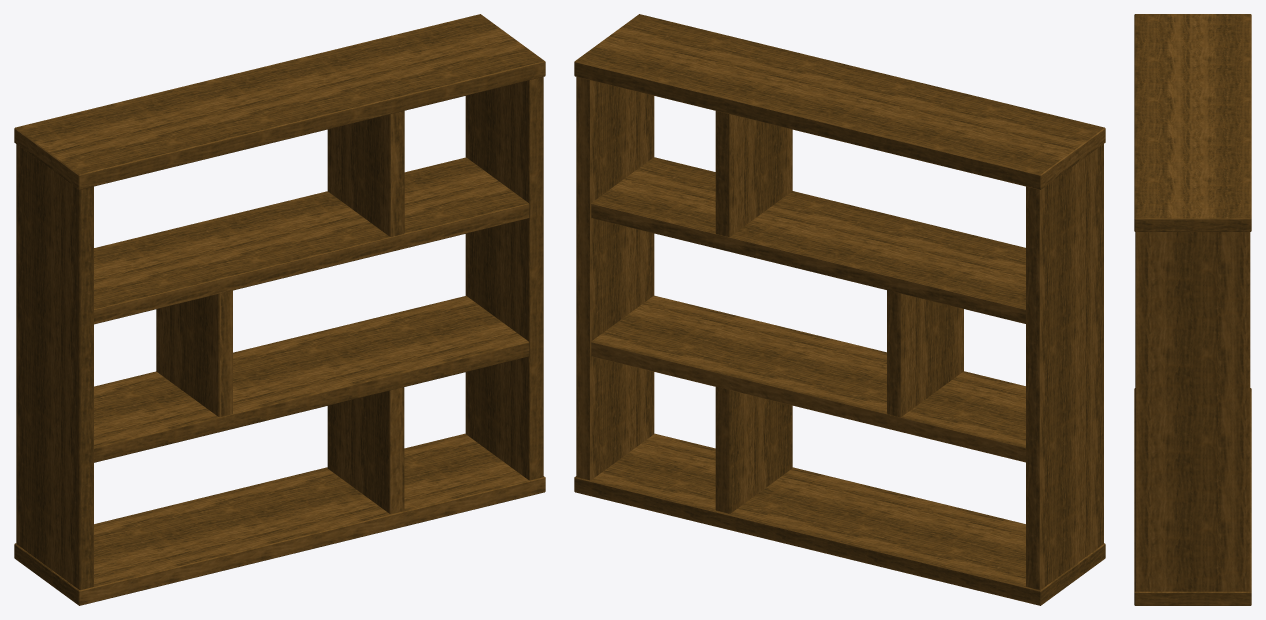
File: cabinet.glb
The picture shows the model from 3 angles, left to right: view 1: azimuth 30°, elevation 25°; view 2: azimuth 150°, elevation 25°; view 3: azimuth 270°, elevation 25°; orthographic projection. The views are drawn at different scales.
Visible parts, largest first — view 1: Shelf5_Shelf5_0; view 2: Shelf5_Shelf5_0; view 3: Shelf5_Shelf5_0.
Part boxes in pixels (x1,y1,x2,y2): Shelf5_Shelf5_0: (14,14,545,605); Shelf5_Shelf5_0: (574,14,1105,605); Shelf5_Shelf5_0: (1134,14,1251,605).
Size of the model in its own units: 1.2 by 1.06 by 0.29.
Materials: 1 (1 with a texture image).
